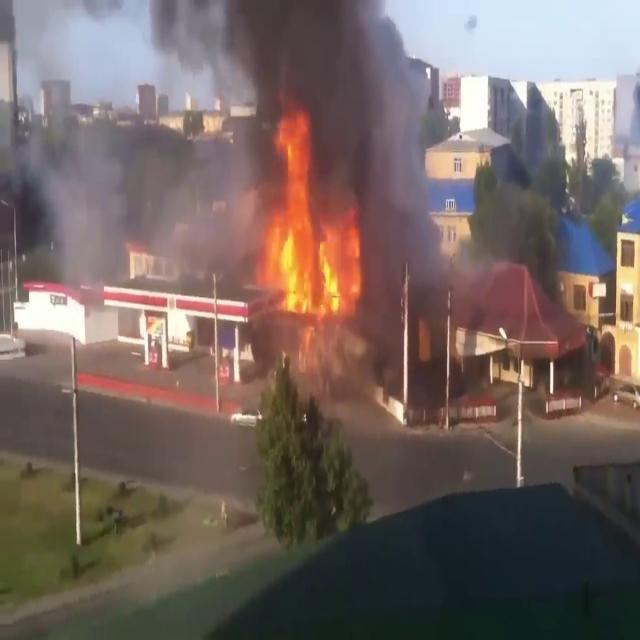Fire: (257, 115, 363, 321)
Smoke: (158, 0, 442, 260), (0, 0, 244, 284)
